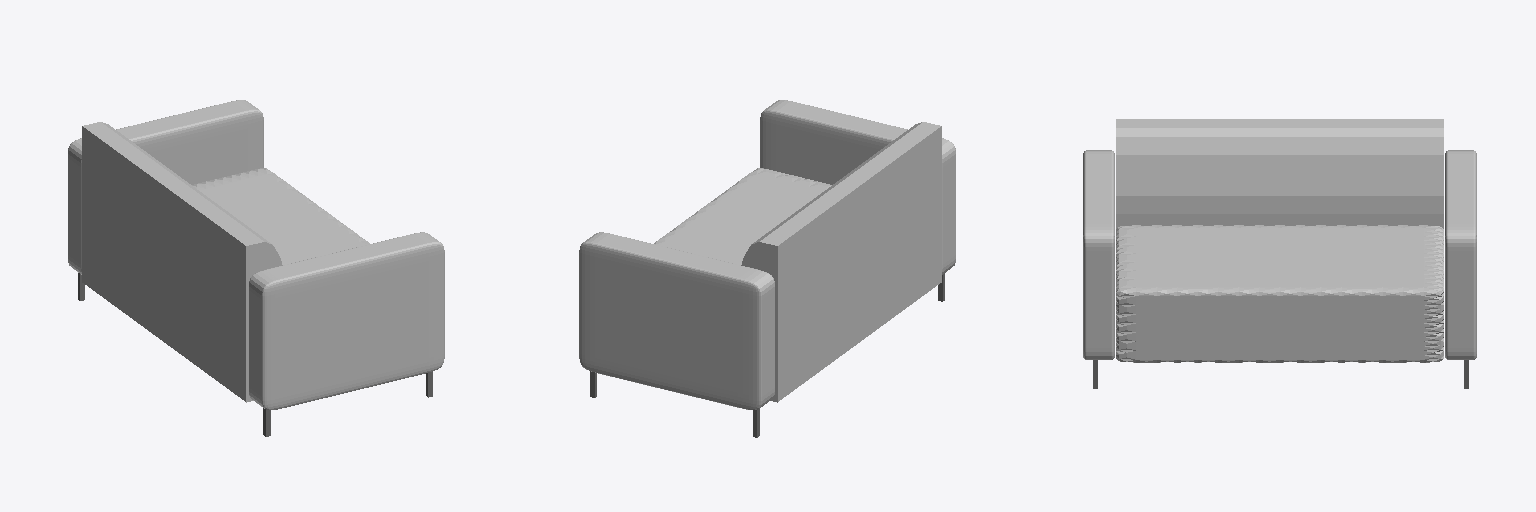
The model's file is AStifani.obj.
3 renders of one model, left to right at view 1: azimuth 30°, elevation 25°; view 2: azimuth 150°, elevation 25°; view 3: azimuth 270°, elevation 25°, orthographic.
Parts seen in each view (by area): view 1: Cube_Cube.001, Cube.003_Cube.004, Cube.002_Cube.003, Cube.001_Cube.002, Cube.007_Cube.008; view 2: Cube_Cube.001, Cube.002_Cube.003, Cube.003_Cube.004, Cube.001_Cube.002; view 3: Cube.001_Cube.002, Cube_Cube.001, Cube.002_Cube.003, Cube.003_Cube.004.
Boxes of the visible parts, box(x1,y1,x2,y2) form: Cube_Cube.001: box(82, 122, 282, 402); Cube.003_Cube.004: box(249, 232, 444, 409); Cube.002_Cube.003: box(68, 100, 263, 274); Cube.001_Cube.002: box(192, 168, 369, 264); Cube.007_Cube.008: box(78, 273, 432, 436); Cube_Cube.001: box(741, 122, 941, 402); Cube.002_Cube.003: box(579, 232, 774, 409); Cube.003_Cube.004: box(760, 100, 955, 274); Cube.001_Cube.002: box(654, 168, 831, 264); Cube.001_Cube.002: box(1116, 225, 1443, 362); Cube_Cube.001: box(1116, 119, 1443, 228); Cube.002_Cube.003: box(1445, 150, 1476, 359); Cube.003_Cube.004: box(1083, 150, 1114, 359).
Size of the model in its own units: 1.55 by 1.49 by 2.88.